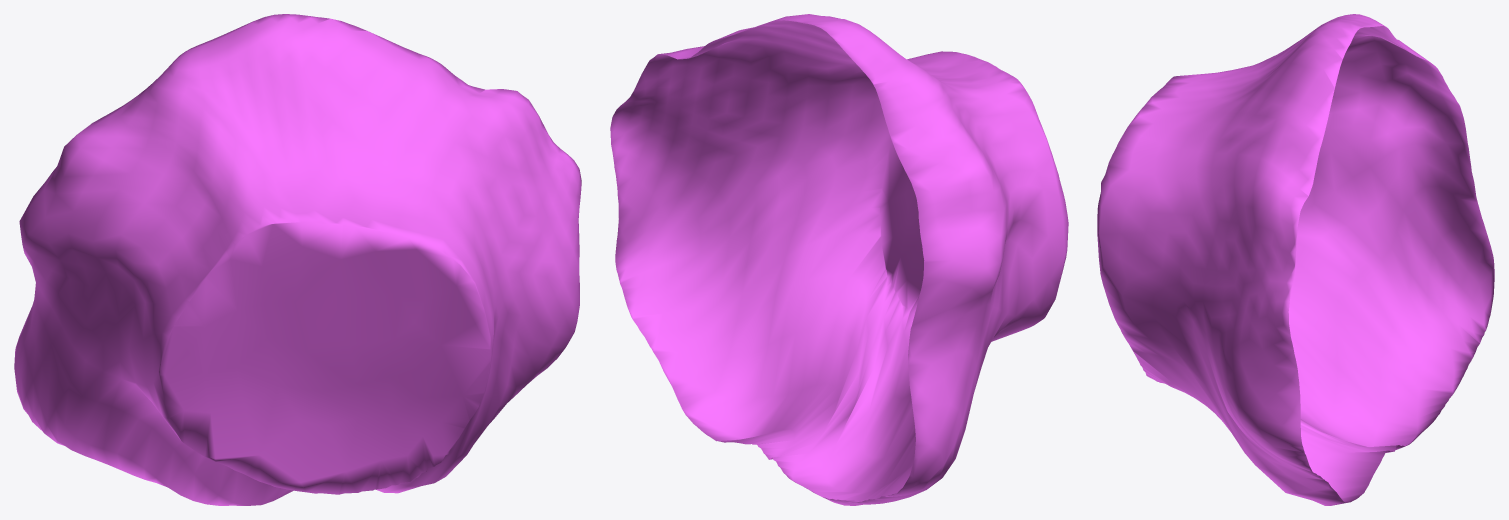
File: Caries_4_OC.glb
3 views of the same model, side by side, from view 1: azimuth 30°, elevation 25°; view 2: azimuth 150°, elevation 25°; view 3: azimuth 270°, elevation 25° (orthographic). The views are drawn at different scales.
Visible parts, largest first — view 1: D4 a.001; view 2: D4 a.001; view 3: D4 a.001.
Boxes of the visible parts, box(x1,y1,x2,y2) form: D4 a.001: box(14, 14, 581, 505); D4 a.001: box(610, 14, 1068, 505); D4 a.001: box(1097, 14, 1494, 505).
Size of the model in its own units: 1.94 by 1.86 by 1.56.
